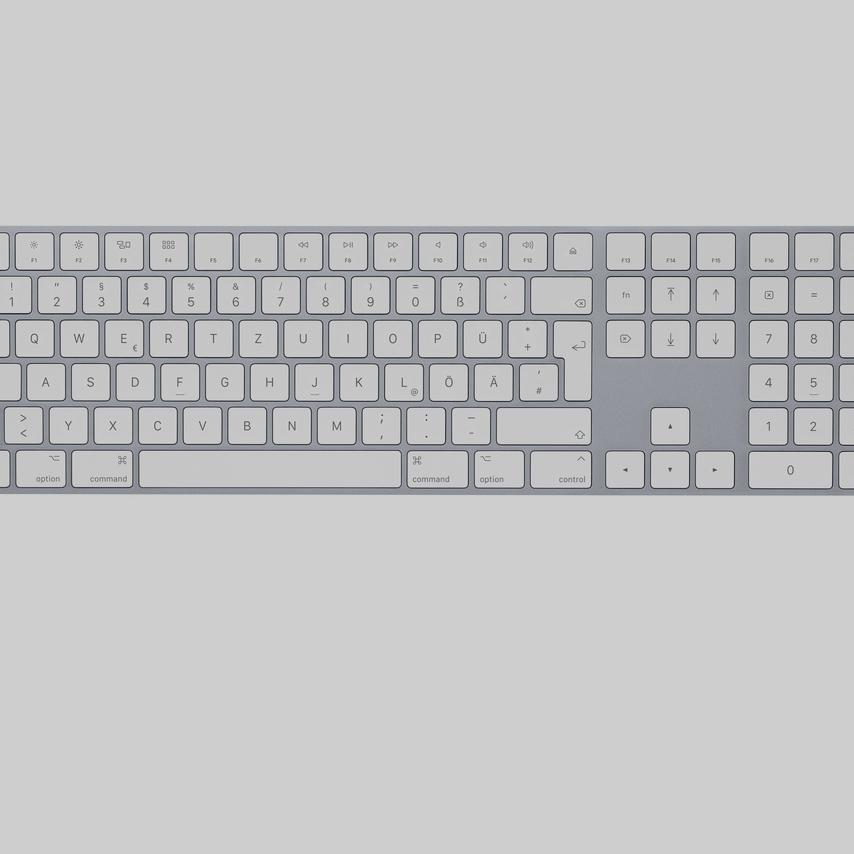0: (393, 273, 434, 313)
1: (1, 273, 30, 312)
2: (35, 273, 75, 313)
3: (79, 273, 120, 313)
4: (125, 273, 164, 312)
5: (169, 273, 210, 313)
6: (214, 273, 254, 313)
7: (259, 273, 299, 313)
8: (304, 273, 344, 313)
9: (348, 273, 389, 313)
a: (24, 360, 64, 399)
accent: (483, 273, 524, 313)
ae: (471, 360, 512, 400)
alt-left: (13, 447, 66, 487)
altgr-right: (470, 447, 524, 488)
b: (225, 404, 266, 443)
c: (135, 404, 176, 443)
caret: (1, 273, 21, 312)
comma: (359, 404, 400, 443)
d: (113, 360, 153, 400)
del: (527, 273, 591, 313)
e: (102, 316, 142, 356)
enter: (551, 317, 594, 402)
f: (158, 360, 198, 400)
g: (203, 360, 243, 400)
h: (247, 360, 288, 400)
hash: (516, 360, 557, 400)
i: (326, 316, 366, 356)
j: (292, 360, 332, 400)
k: (337, 360, 377, 400)
keyboard: (1, 222, 854, 499)
l: (382, 360, 422, 400)
less: (1, 403, 42, 442)
m: (314, 404, 355, 443)
minus: (449, 405, 489, 443)
n: (269, 404, 310, 443)
o: (370, 317, 411, 356)
oe: (427, 360, 467, 400)
p: (416, 316, 455, 356)
plus: (505, 317, 546, 356)
point: (404, 404, 445, 443)
q: (12, 316, 53, 356)
r: (147, 316, 187, 356)
s: (69, 360, 108, 400)
shift-left: (1, 403, 27, 443)
shift-lock: (1, 359, 38, 400)
shift-right: (494, 404, 591, 443)
space: (135, 446, 400, 488)
ss: (438, 273, 479, 313)
strg-left: (1, 447, 34, 488)
strg-right: (527, 448, 593, 489)
t: (192, 316, 231, 356)
tab: (1, 316, 32, 356)
u: (281, 316, 322, 357)
ue: (460, 317, 501, 356)
v: (180, 403, 222, 443)
w: (57, 316, 97, 356)
x: (91, 404, 132, 443)
y: (46, 404, 87, 442)
z: (236, 316, 277, 356)
